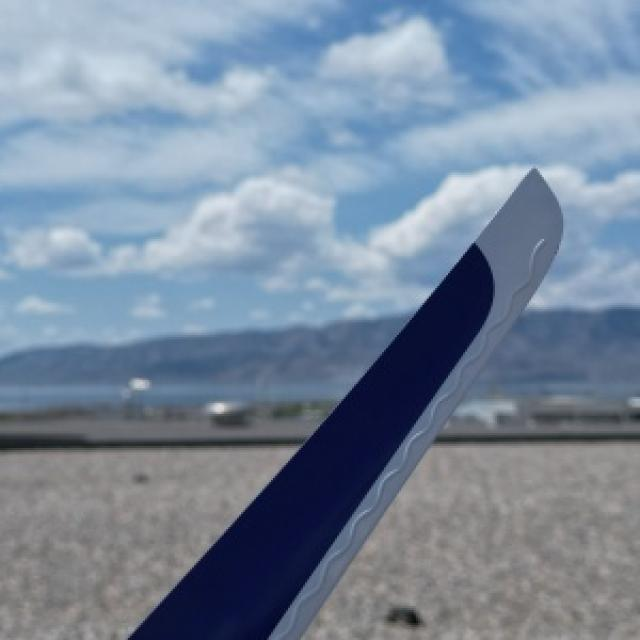healthy: (128, 166, 561, 638)
